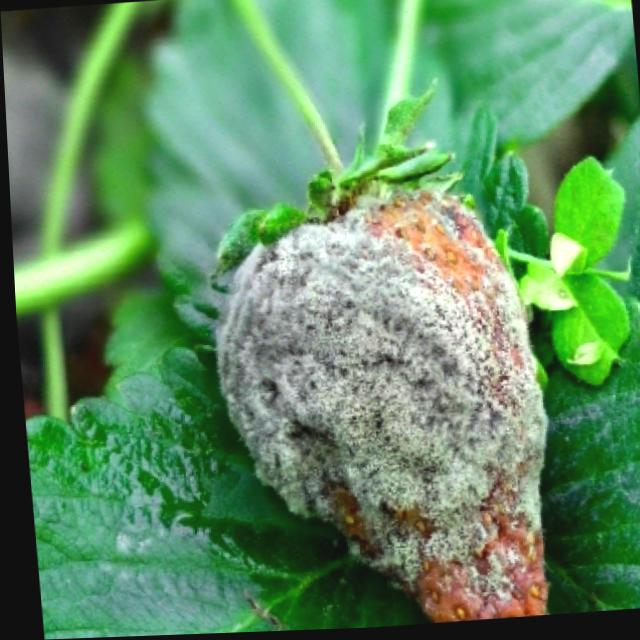Gray Mold: (206, 185, 546, 626)
